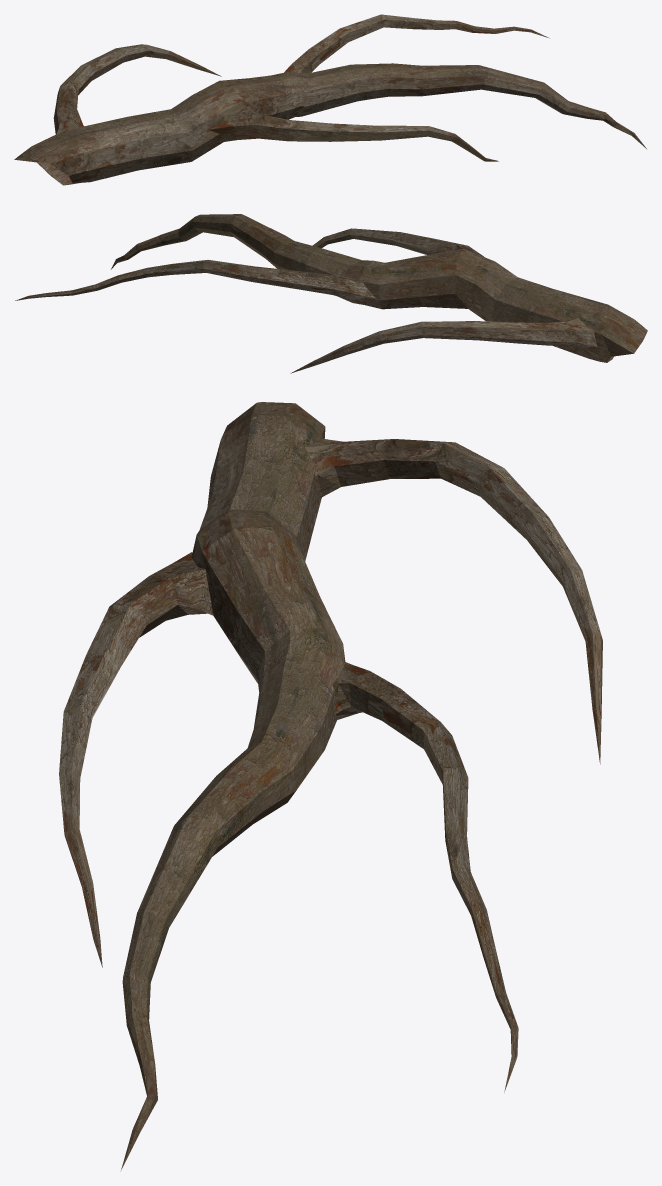
The model's file is House60.fbx.
The picture shows the model from 3 angles, top to bottom: view 1: azimuth 30°, elevation 25°; view 2: azimuth 150°, elevation 25°; view 3: azimuth 270°, elevation 25°; orthographic projection. The views are drawn at different scales.
Visible parts, largest first — view 1: AT_BGAgo_TrI04.mo; view 2: AT_BGAgo_TrI04.mo; view 3: AT_BGAgo_TrI04.mo.
Boxes of the visible parts, x1,y1,x2,y2 form: AT_BGAgo_TrI04.mo: (14,14,646,185); AT_BGAgo_TrI04.mo: (15,214,647,373); AT_BGAgo_TrI04.mo: (59,402,602,1171).
Bounding box in the file's own units: 1554 × 349 × 635.
